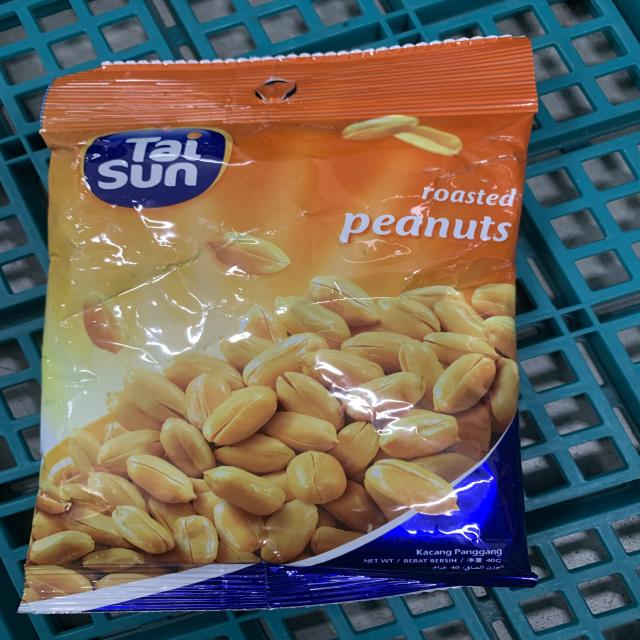object_name: (41, 64, 511, 590)
